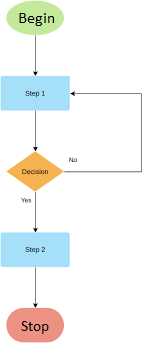arrow: (62, 90, 144, 174), (32, 33, 41, 77), (31, 108, 40, 151), (31, 265, 39, 310), (33, 189, 39, 232)
decision: (5, 150, 65, 192)
process: (1, 73, 72, 112), (1, 230, 72, 268)
terminator: (4, 307, 67, 343), (4, 1, 65, 36)
text: (17, 10, 57, 28), (20, 319, 50, 335), (20, 166, 49, 176), (23, 242, 47, 254), (23, 89, 49, 99), (19, 195, 32, 203), (67, 155, 77, 163)
